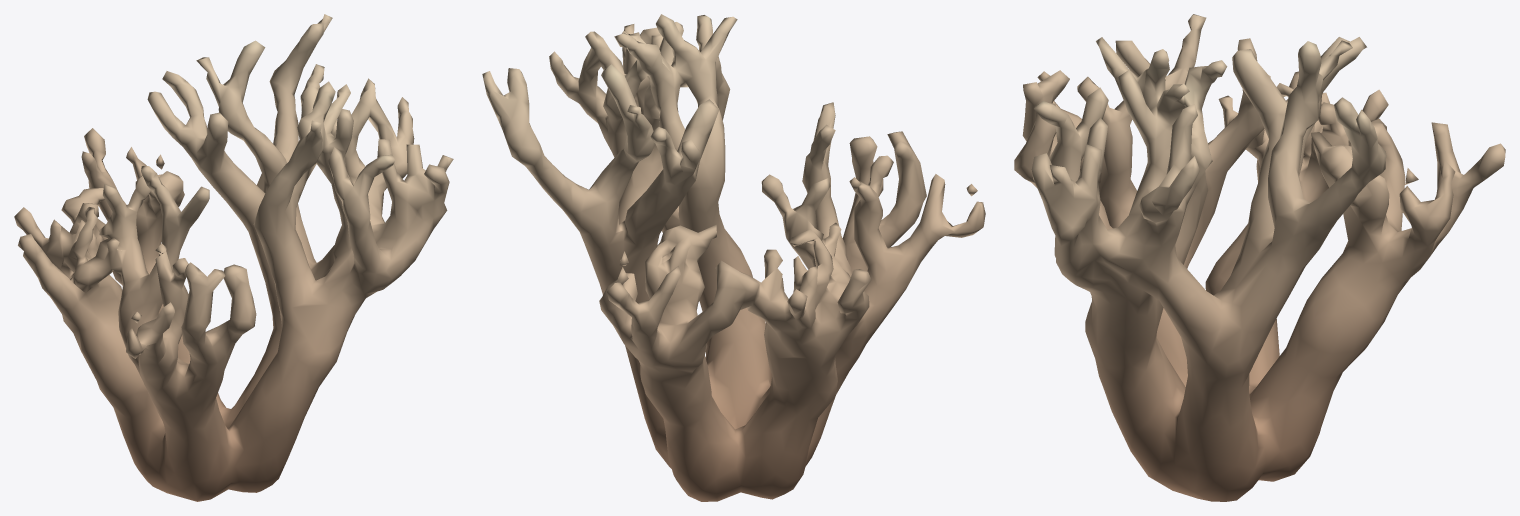
Rendered from staghorn_gold.glb.
3 renders of one model, left to right at view 1: azimuth 30°, elevation 25°; view 2: azimuth 150°, elevation 25°; view 3: azimuth 270°, elevation 25°, orthographic. The views are drawn at different scales.
Parts seen in each view (by area): view 1: world; view 2: world; view 3: world.
Boxes of the visible parts, bbox=[...] form: world: bbox=[14, 14, 453, 501]; world: bbox=[482, 14, 985, 501]; world: bbox=[1014, 14, 1505, 501].
Bounding box in the file's own units: 1.09 × 1.2 × 1.11.
